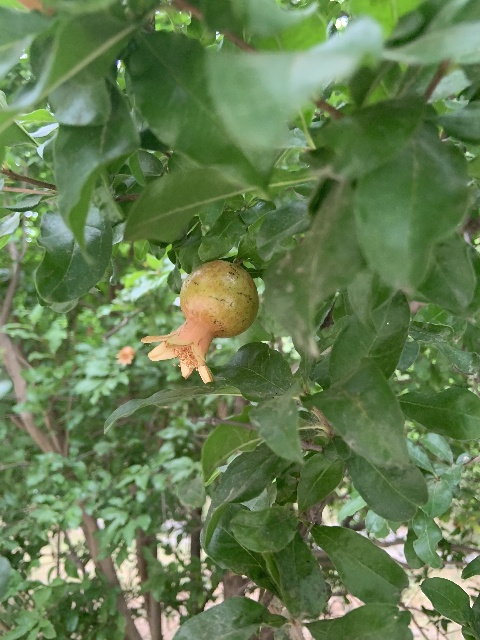early-fruit: (140, 260, 258, 383)
